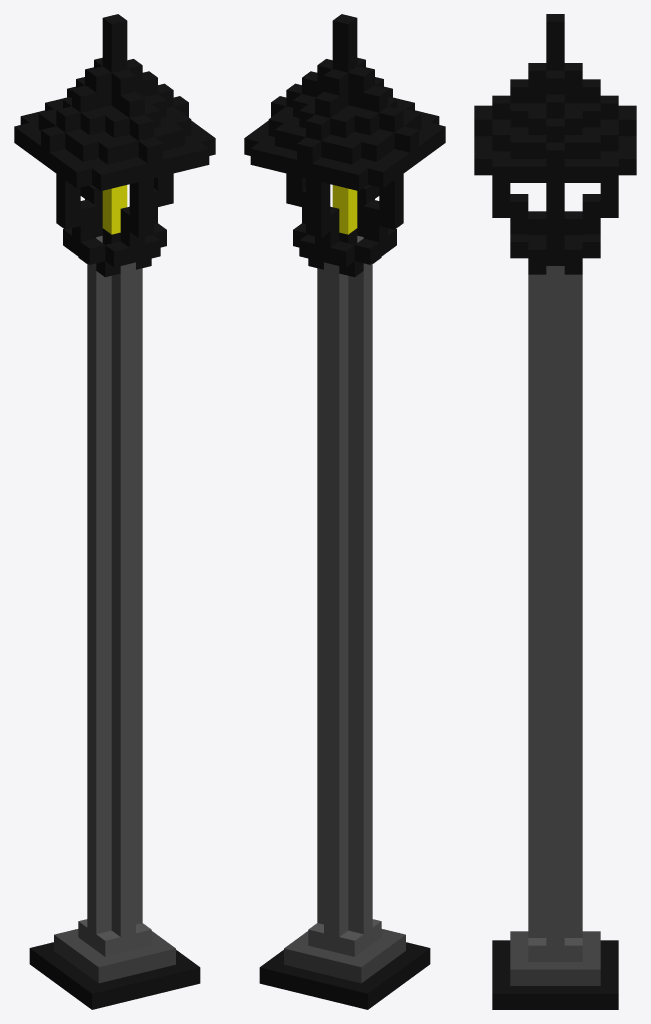
The model's file is poste_antigo.obj.
The picture shows the model from 3 angles, left to right: view 1: azimuth 30°, elevation 25°; view 2: azimuth 150°, elevation 25°; view 3: azimuth 270°, elevation 25°; orthographic projection.
Size of the model in its own units: 0.9 by 5.9 by 0.9.
Materials: 1 (1 with a texture image).
